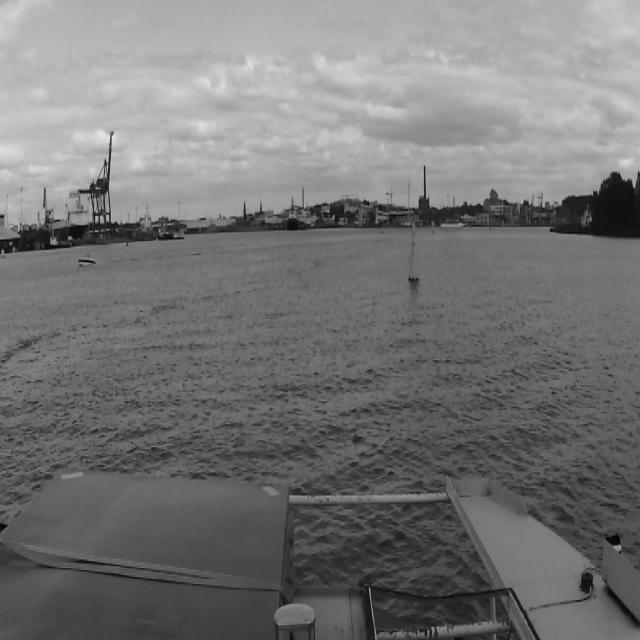buoy: (406, 214, 424, 294), (124, 234, 130, 250), (431, 218, 435, 237)
ship: (76, 250, 98, 271), (286, 197, 298, 232), (379, 225, 385, 237)
